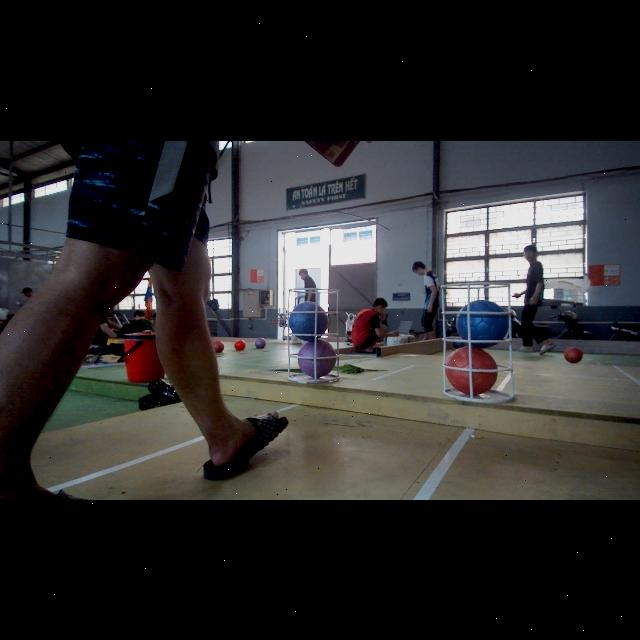B: (456, 299, 508, 346), (288, 300, 328, 340)
R: (444, 346, 498, 394)
